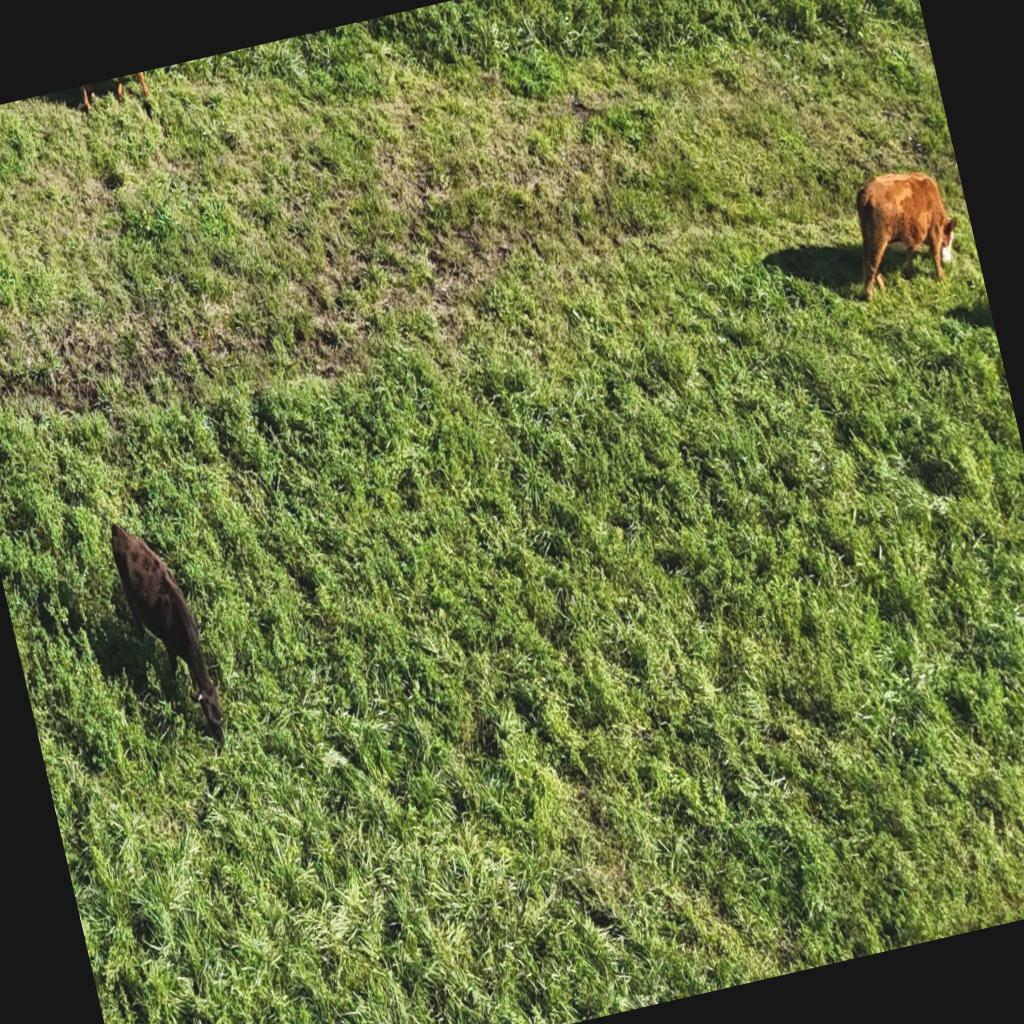cow: (73, 510, 229, 754), (838, 160, 968, 304)
